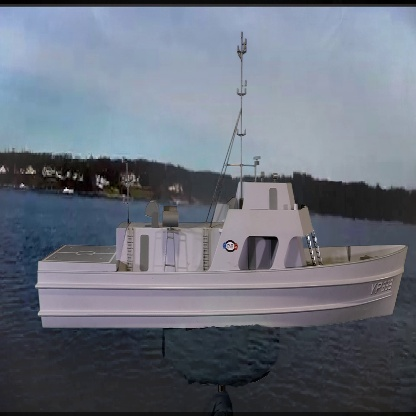YP689: (32, 28, 412, 332)
